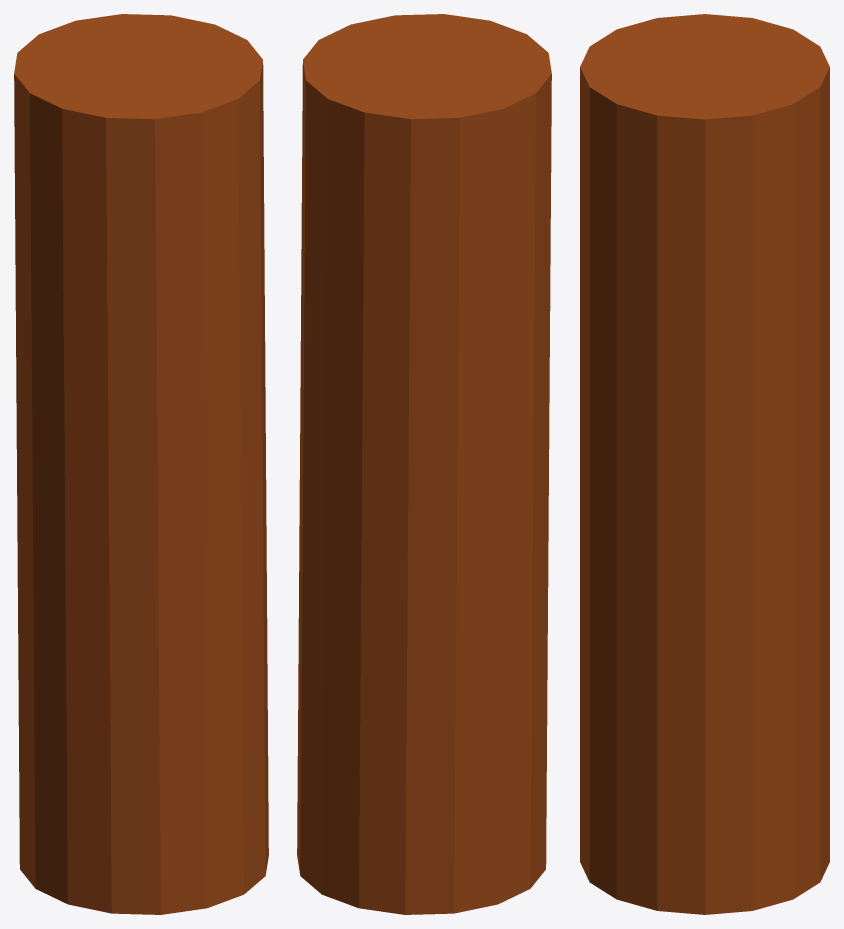
The model's file is duz_govde_yeni.fbx.
3 views of the same model, side by side, from view 1: azimuth 30°, elevation 25°; view 2: azimuth 150°, elevation 25°; view 3: azimuth 270°, elevation 25° (orthographic).
Visible parts, largest first — view 1: Cylinder.013; view 2: Cylinder.013; view 3: Cylinder.013.
Boxes of the visible parts, x1,y1,x2,y2 form: Cylinder.013: (14,14,268,914); Cylinder.013: (297,14,551,914); Cylinder.013: (580,14,829,914).
Bounding box in the file's own units: 3.13 × 10.69 × 3.05.
